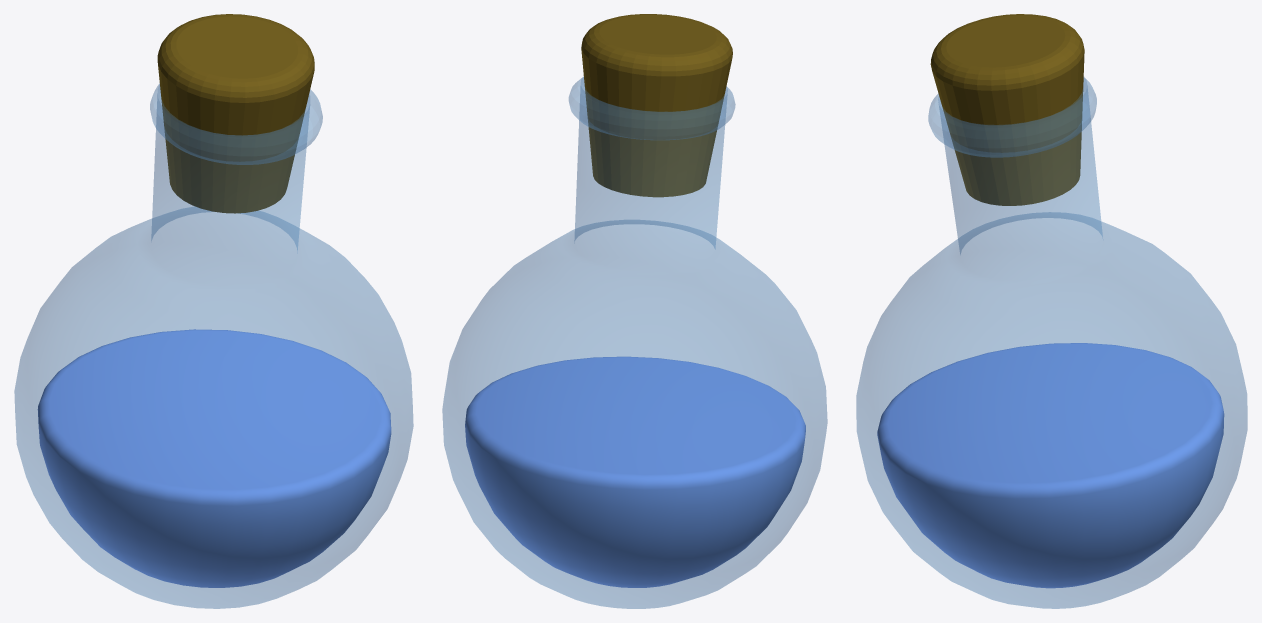
The model's file is ManaPOT.glb.
3 renders of one model, left to right at view 1: azimuth 30°, elevation 25°; view 2: azimuth 150°, elevation 25°; view 3: azimuth 270°, elevation 25°, orthographic. The views are drawn at different scales.
Parts seen in each view (by area): view 1: Sphere, Sphere.001, Cylinder, Torus; view 2: Sphere, Sphere.001, Cylinder, Torus; view 3: Sphere, Sphere.001, Cylinder, Torus.
Boxes of the visible parts, box(x1,y1,x2,y2) form: Sphere: box(14, 85, 413, 608); Sphere.001: box(37, 329, 391, 587); Cylinder: box(157, 14, 314, 213); Torus: box(150, 84, 322, 164); Sphere: box(442, 77, 827, 608); Sphere.001: box(465, 356, 805, 587); Cylinder: box(581, 14, 732, 197); Torus: box(568, 77, 735, 139); Sphere: box(856, 77, 1247, 608); Sphere.001: box(877, 343, 1224, 588); Cylinder: box(930, 14, 1084, 205); Torus: box(928, 78, 1096, 157).
Bounding box in the file's own units: 1.8 × 2.81 × 1.8.
Materials: 3 (3 with a texture image).
